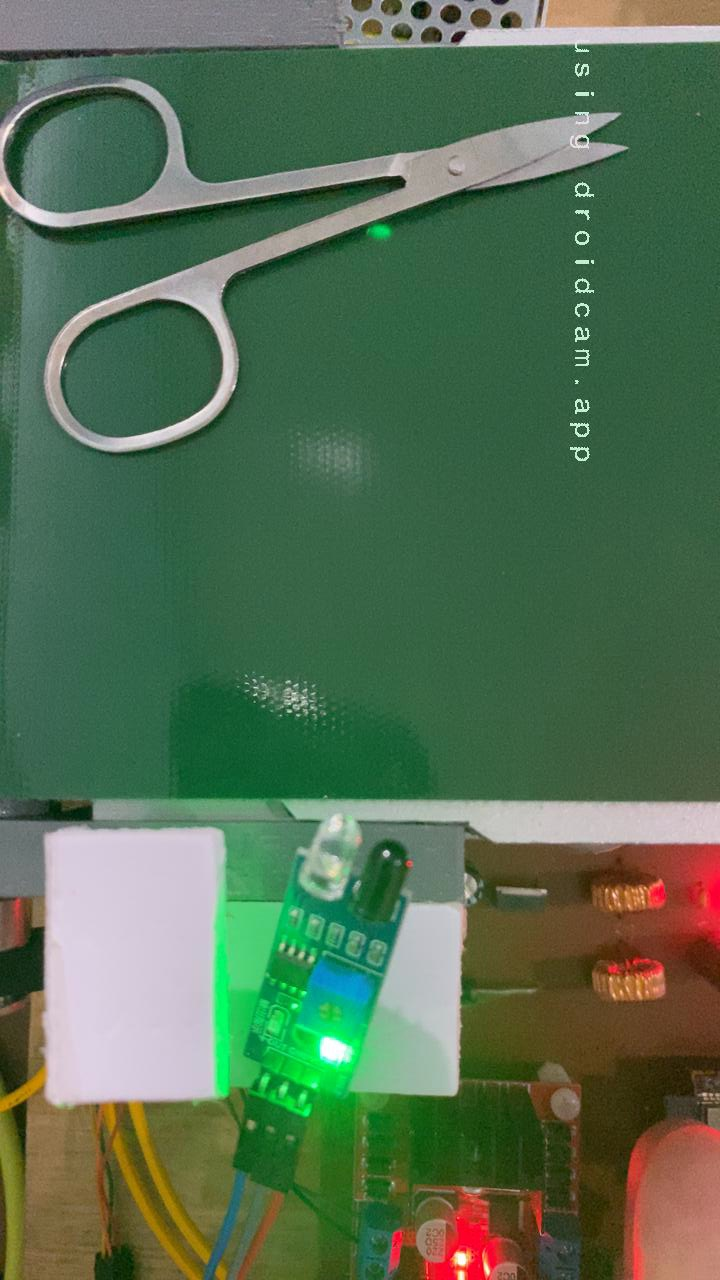scissor: (0, 71, 633, 461)
